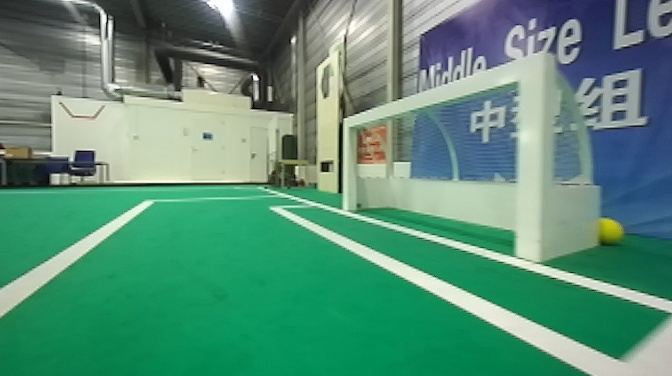ball: (597, 207, 627, 253)
goalpost: (507, 46, 563, 275), (337, 109, 361, 224)
